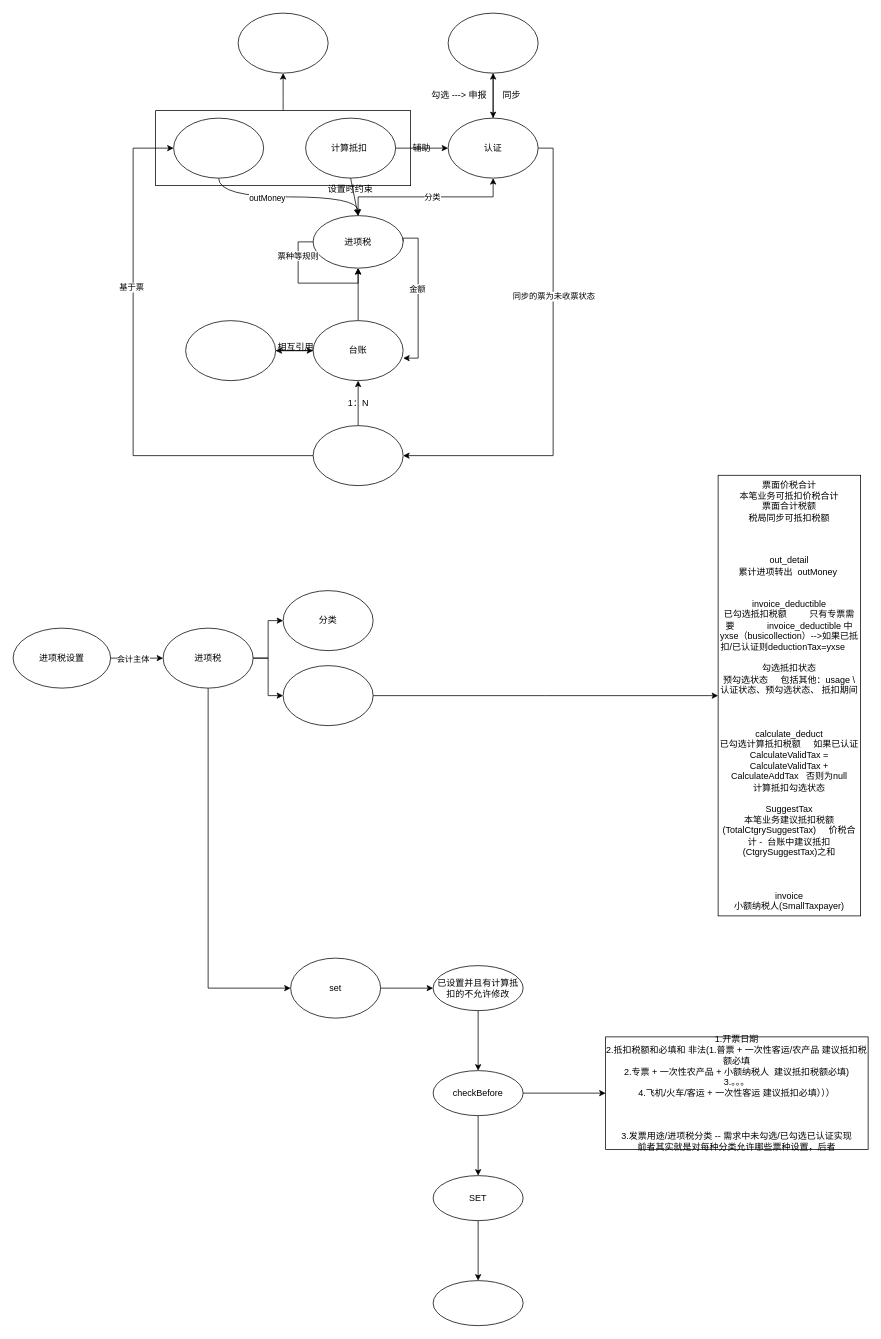
Image size: 881x1339. Some labels were removed from this diagram. The shapes that lost their labels are listed below. From the top down, each one's box as (x1, y1, x2, y2) in pixels, then its label:
(237, 12, 328, 73): 财务
(447, 12, 538, 73): 税局
(173, 117, 264, 178): 转出
(185, 320, 276, 381): 建筑
(312, 425, 403, 486): 票据中心
(282, 665, 373, 726): meta
(432, 1280, 523, 1326): After
